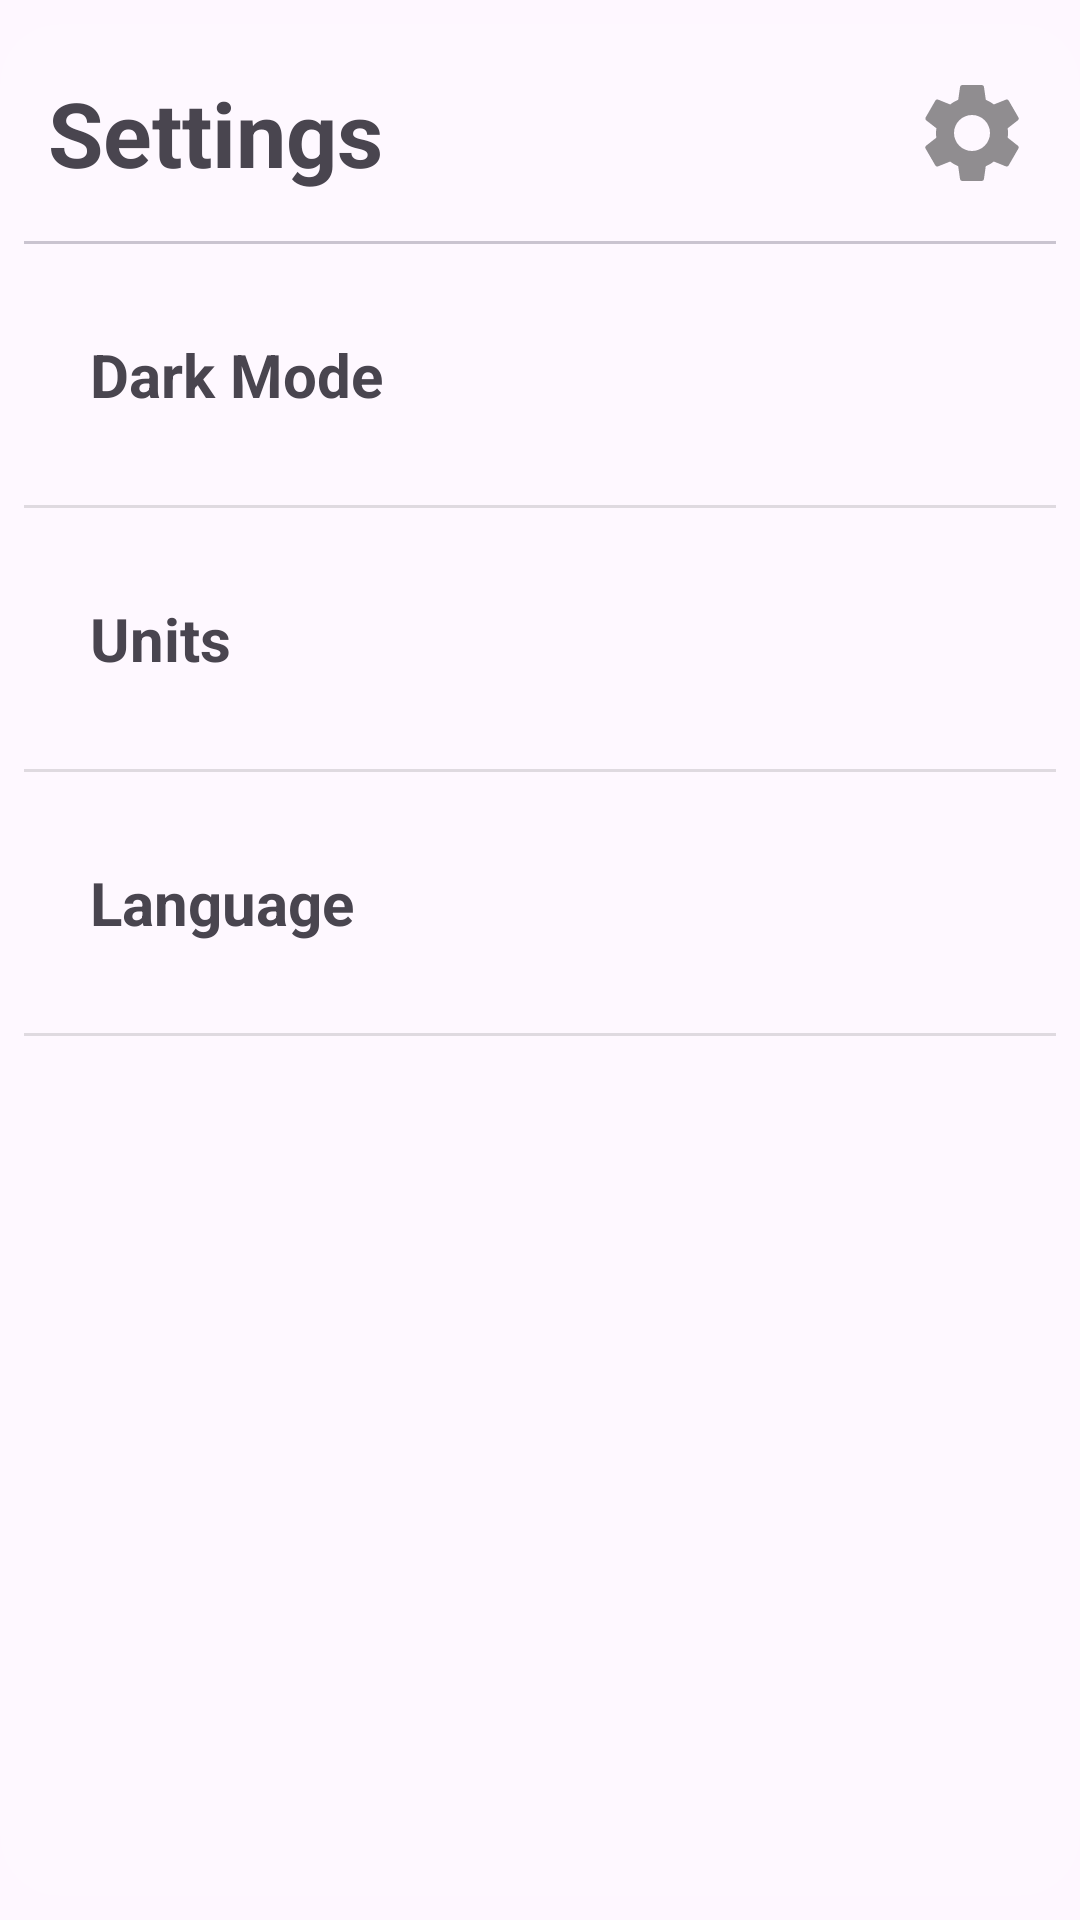

Icon click points for this 1080w x 1920h phone screenshot, format point (x, y):
Settings: point (972, 133)
